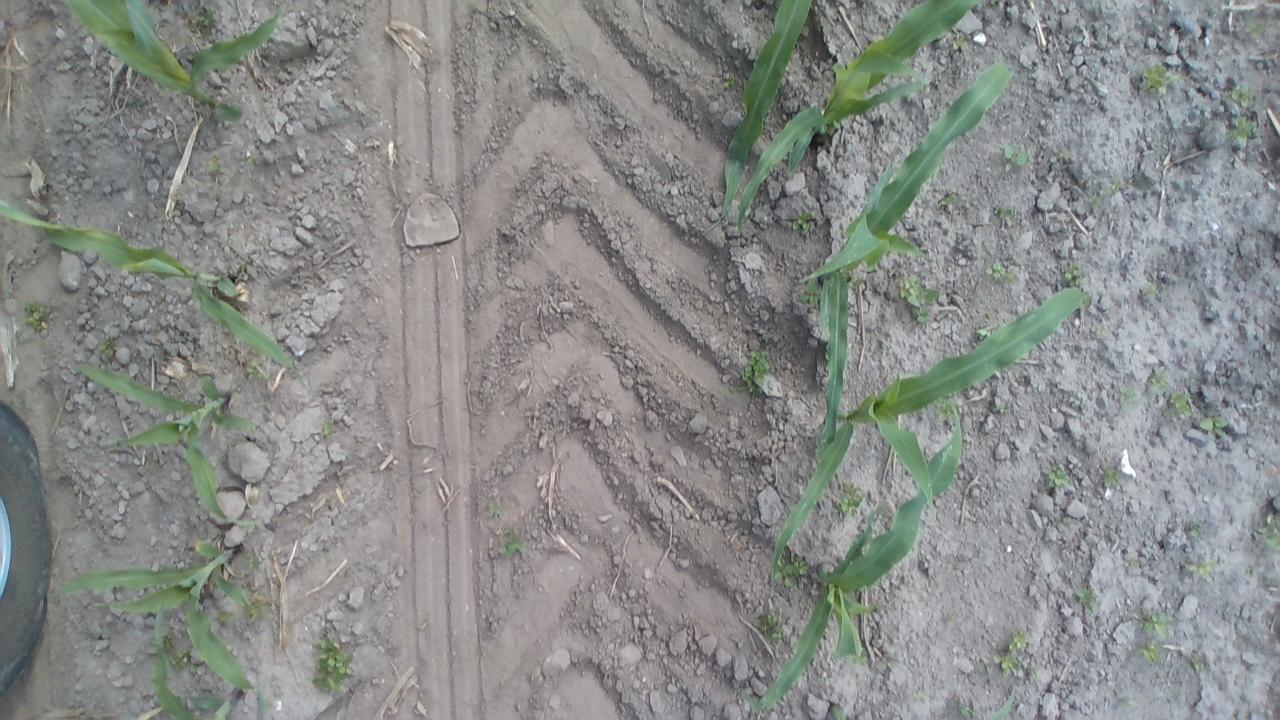Maize: (765, 284, 1093, 570), (799, 60, 1018, 448), (739, 428, 968, 714), (736, 0, 976, 237), (2, 199, 300, 383), (74, 354, 261, 530), (54, 538, 265, 691), (65, 0, 282, 139), (704, 0, 818, 228), (142, 610, 268, 720)
Weeds: (311, 624, 353, 700), (729, 349, 775, 395), (900, 278, 944, 324), (750, 608, 788, 648), (771, 554, 810, 590), (1139, 62, 1177, 98), (1223, 114, 1257, 154), (19, 298, 51, 337), (834, 479, 866, 517), (784, 207, 820, 238), (1000, 145, 1034, 177), (188, 5, 224, 34), (1255, 512, 1280, 552), (1229, 81, 1259, 114), (1196, 410, 1228, 440), (230, 255, 258, 289), (1184, 557, 1222, 580), (1143, 368, 1170, 400), (1167, 390, 1194, 422), (1071, 584, 1098, 616), (935, 396, 963, 426), (1140, 612, 1174, 636), (93, 334, 120, 364), (800, 279, 826, 309), (242, 152, 268, 180), (1100, 468, 1128, 494), (1060, 257, 1084, 287), (242, 546, 267, 574), (990, 650, 1019, 674), (501, 529, 524, 559), (244, 600, 268, 628), (984, 262, 1014, 284), (242, 357, 268, 382), (1136, 641, 1162, 666), (170, 647, 192, 676), (1046, 465, 1072, 489), (1117, 386, 1139, 414), (203, 154, 226, 180), (1142, 281, 1166, 305), (1008, 628, 1032, 652), (486, 502, 512, 524), (213, 605, 235, 631), (156, 631, 181, 653), (720, 72, 744, 94), (1242, 20, 1266, 42), (1052, 146, 1076, 168), (1022, 661, 1046, 683), (1108, 174, 1134, 194), (907, 685, 930, 707), (1182, 521, 1206, 542), (314, 421, 340, 440), (986, 396, 1008, 417), (958, 699, 980, 720), (939, 192, 960, 212), (999, 206, 1022, 224), (950, 33, 971, 50), (939, 606, 954, 627), (1084, 194, 1104, 209), (1094, 318, 1112, 334), (883, 654, 901, 670), (186, 662, 203, 678)
